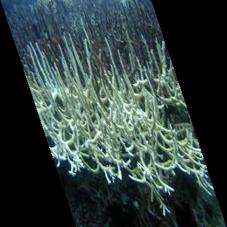bleached_corals: (30, 24, 207, 208)
